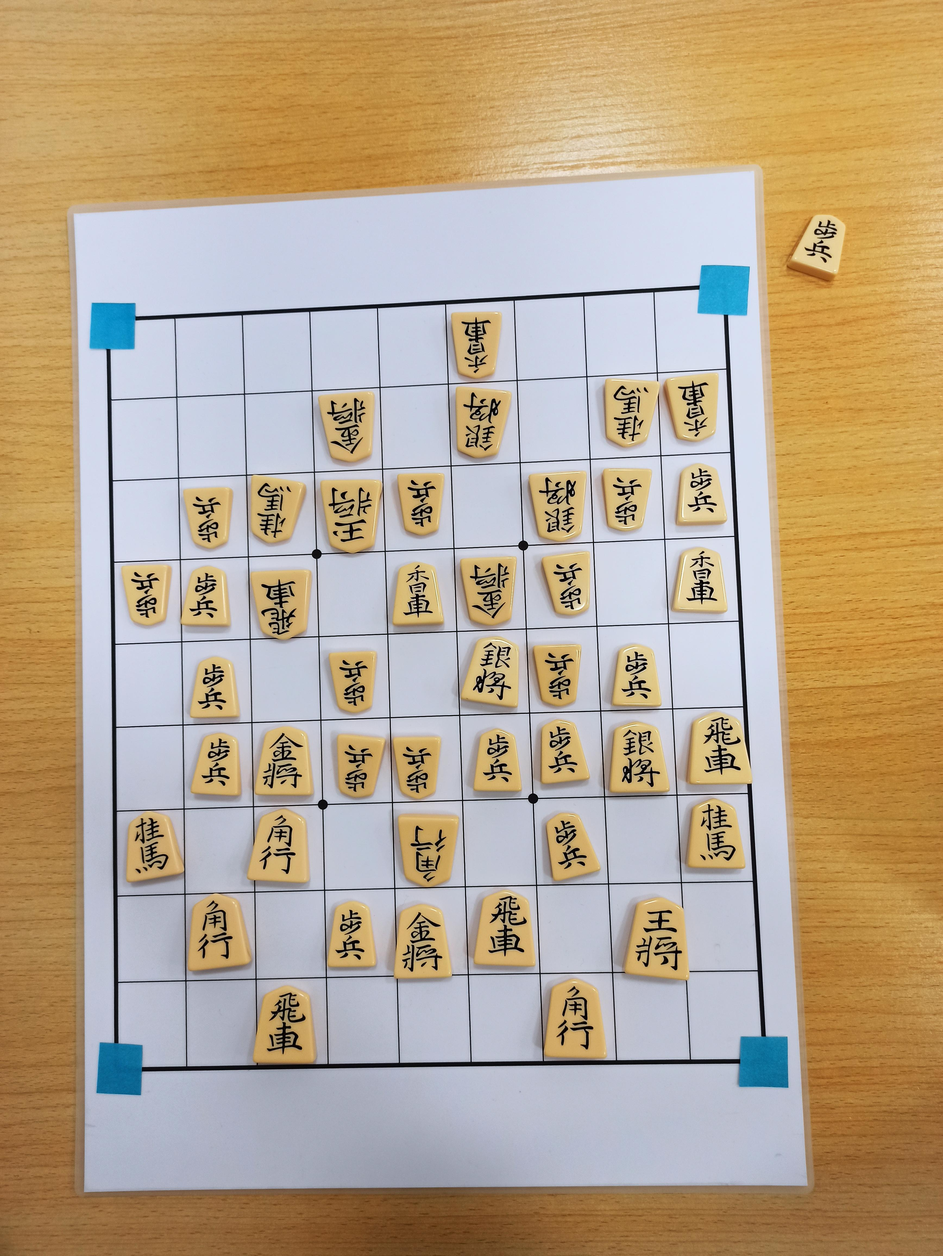board: (106, 289, 767, 1070)
